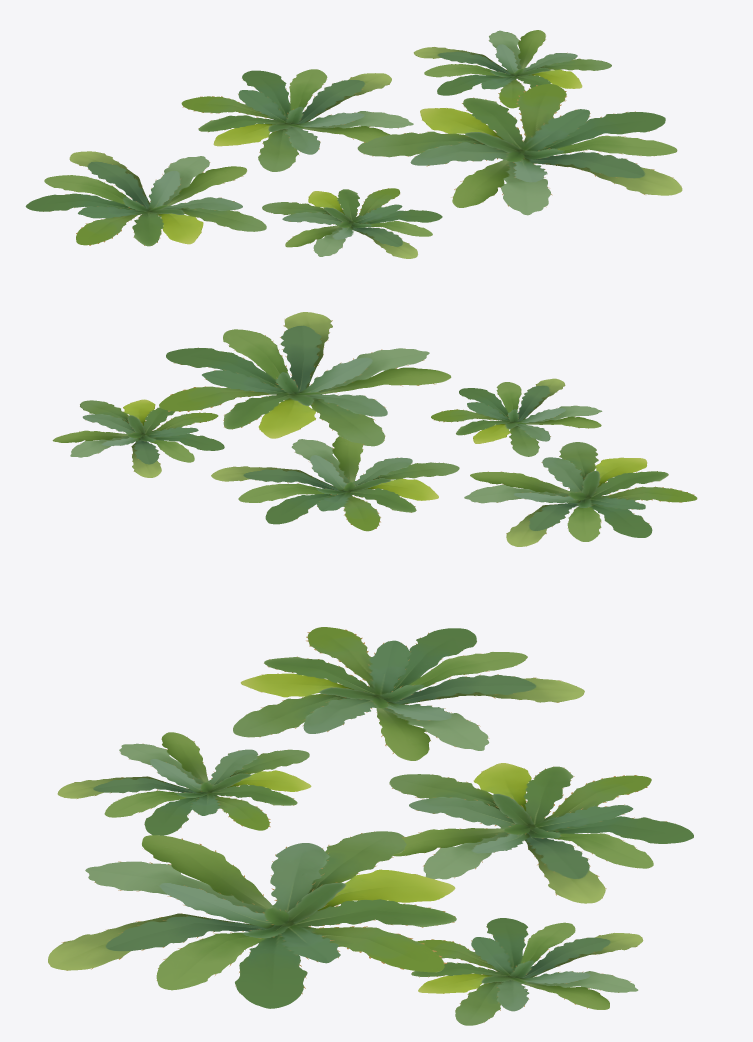
File: conga_mod_weeds_v002.fbx
The picture shows the model from 3 angles, top to bottom: view 1: azimuth 30°, elevation 25°; view 2: azimuth 150°, elevation 25°; view 3: azimuth 270°, elevation 25°; orthographic projection. The views are drawn at different scales.
Visible parts, largest first — view 1: pPlane6; view 2: pPlane6; view 3: pPlane6.
Boxes of the visible parts, x1,y1,x2,y2 form: pPlane6: [25, 30, 682, 258]; pPlane6: [52, 312, 697, 546]; pPlane6: [48, 627, 693, 1025].
Bounding box in the file's own units: 319 × 7.21 × 226.
1 material, 1 textured.
